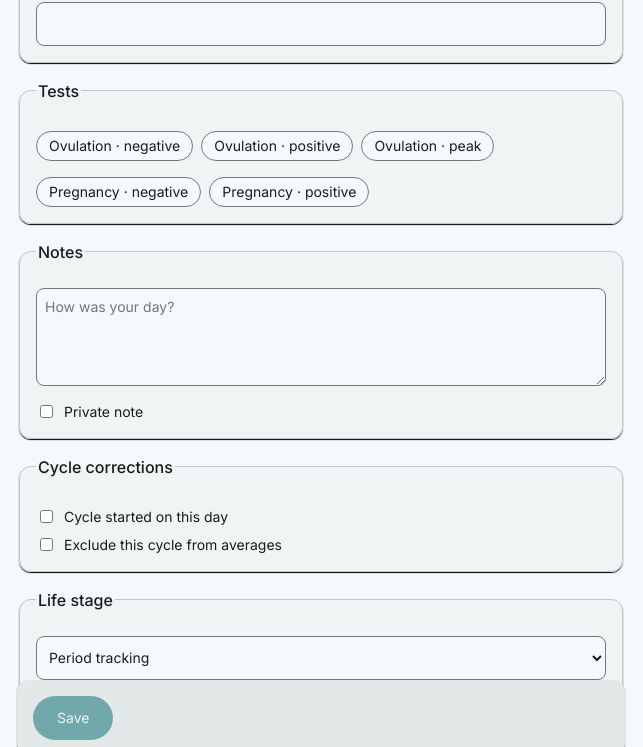
it: DayPage (issue #1254) › shows the inline rejection beside the field group the server refused
(page scrolled)
Type "rejected day" into the text box named "Notes".
click(321, 336); type("rejected day")  # box [36, 288, 606, 386]
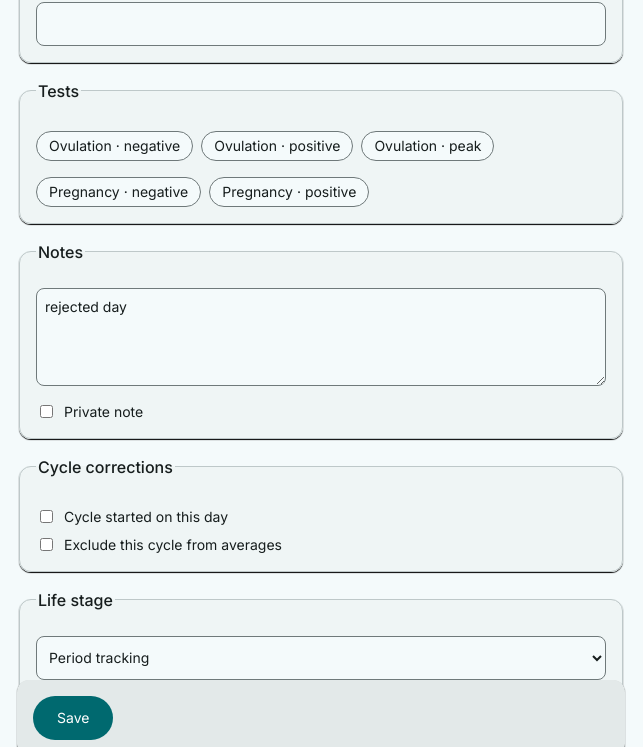
Click the button "Save".
click(73, 718)  # box [33, 696, 113, 740]
(page scrolled)
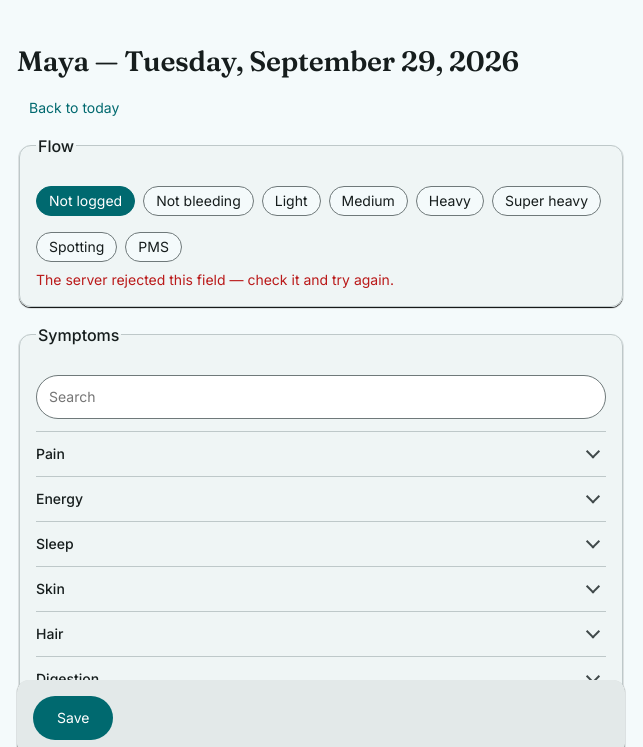
Expected: the text "The server rejected this field — check it and try again." is shown, [36, 270, 394, 288]
